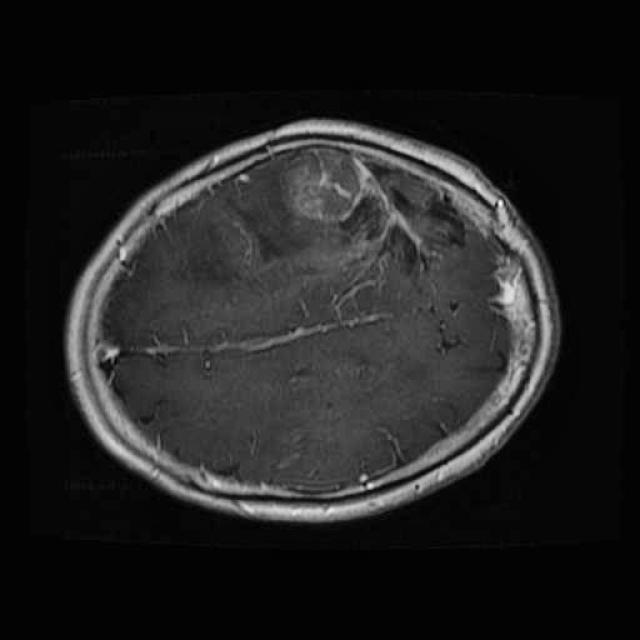Non-Tumor: (222, 126, 454, 312)
